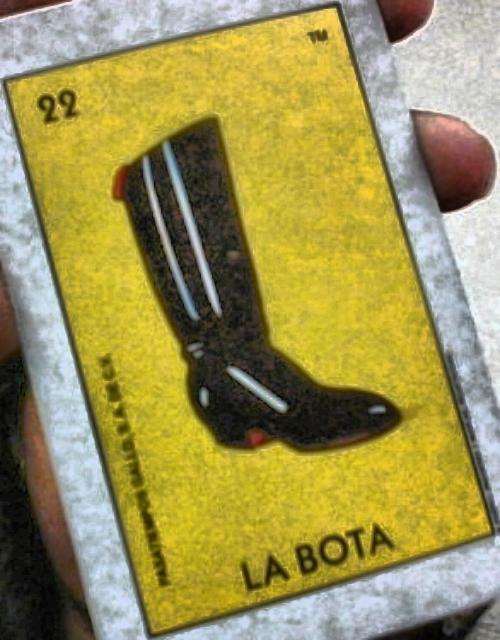La Bota: (7, 6, 498, 632)
